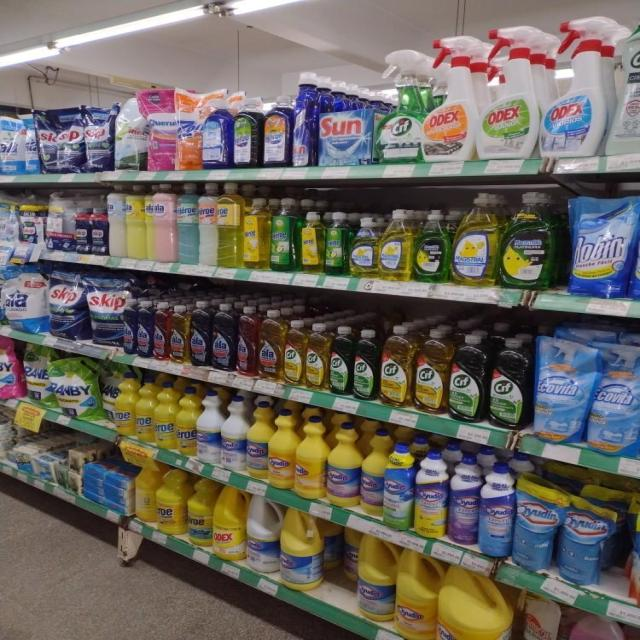ala_conc_amarillo: (259, 310, 283, 382), (170, 303, 189, 364)
ala_conc_azul: (211, 302, 235, 372), (190, 301, 210, 367), (136, 300, 152, 358), (123, 300, 136, 355)
ala_conc_rojo: (236, 306, 258, 377), (153, 301, 170, 361)
ala_crem_amarillo: (126, 182, 147, 260)
ala_crem_blanco: (108, 182, 126, 258)
ala_crem_rosado: (152, 182, 176, 262)
cif_conc_bot_amarilla: (415, 328, 449, 414), (381, 325, 413, 408), (306, 322, 328, 392), (284, 319, 305, 387)
cif_conc_botella_verde: (489, 336, 532, 430), (450, 332, 487, 422), (353, 328, 379, 402), (330, 326, 352, 396)
magistral_con_amarillo: (452, 192, 499, 287), (379, 209, 413, 281), (349, 214, 378, 278)
magistral_con_verde: (501, 190, 557, 290), (414, 209, 450, 283)
